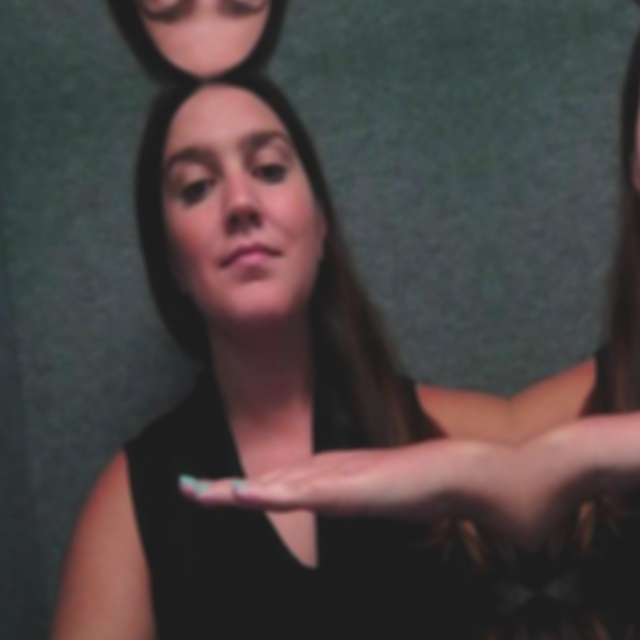Paper: (166, 405, 463, 578)
